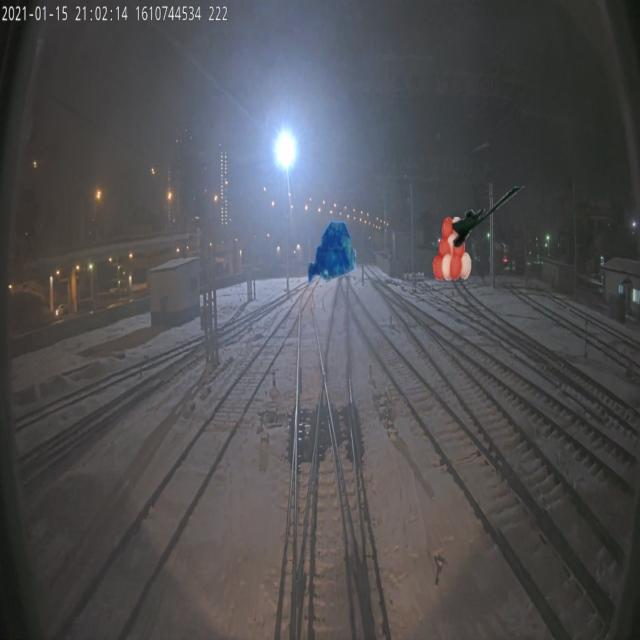balloon: (433, 217, 471, 280)
floating object: (452, 185, 526, 249)
plastic bag: (307, 220, 359, 284)
